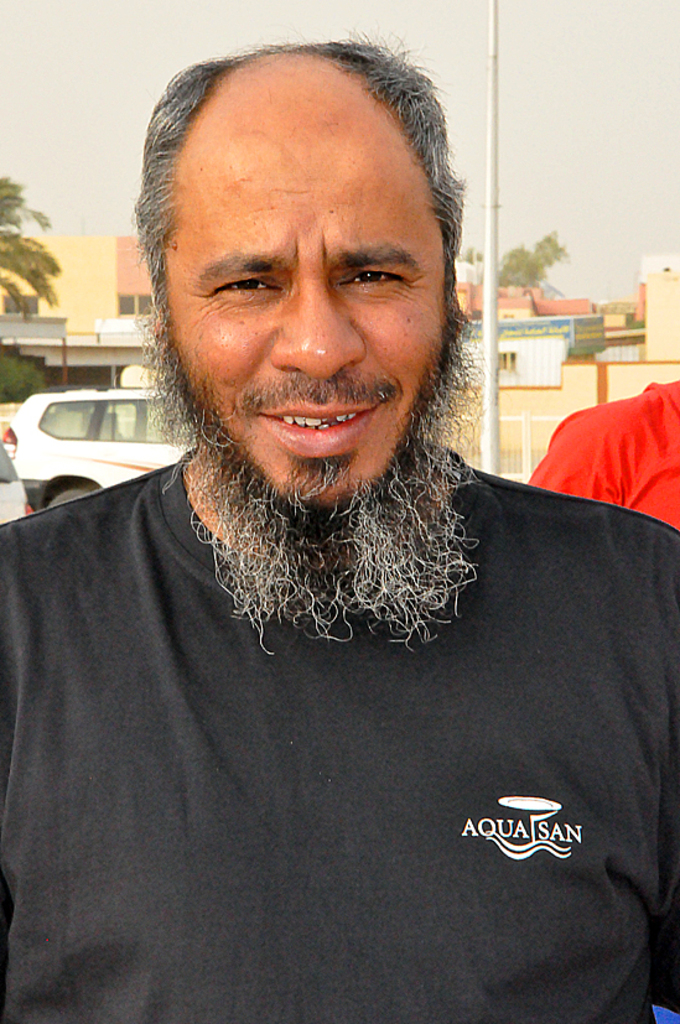Human-face: (146, 73, 474, 516)
